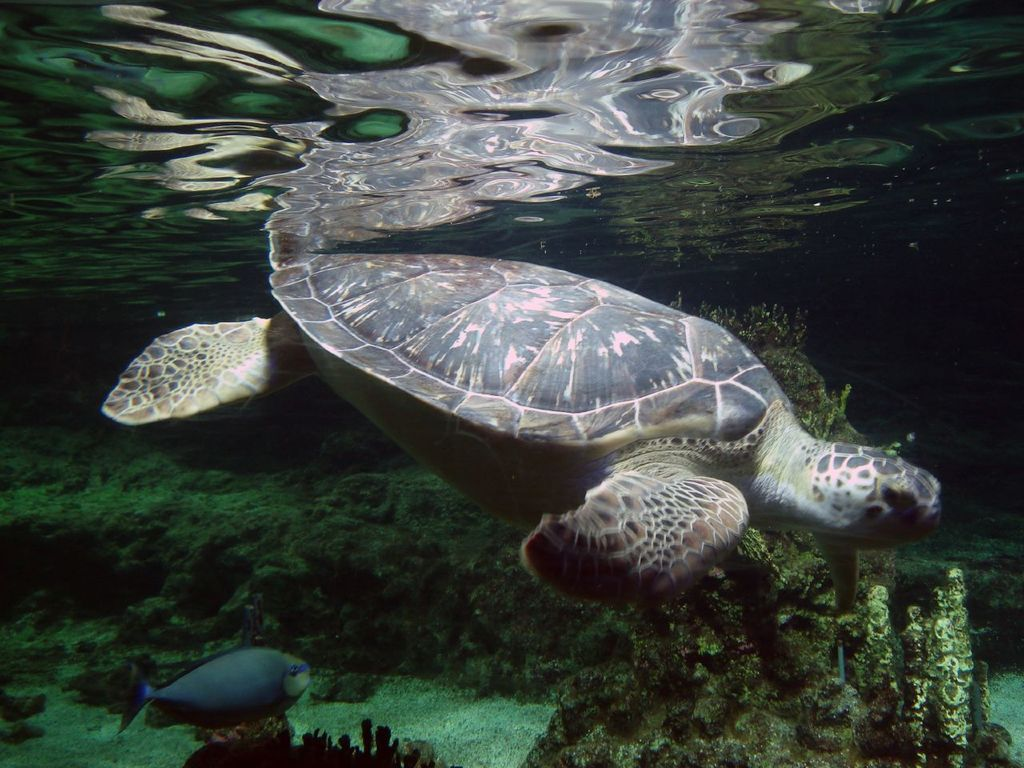Sea turtles: (88, 243, 947, 605)
